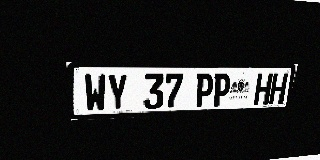3: (144, 73, 164, 110)
7: (163, 73, 184, 109)
H: (253, 73, 273, 105), (268, 73, 288, 104)
P: (211, 73, 232, 107), (194, 73, 214, 108)
W: (83, 74, 107, 112)
Y: (107, 73, 128, 111)
